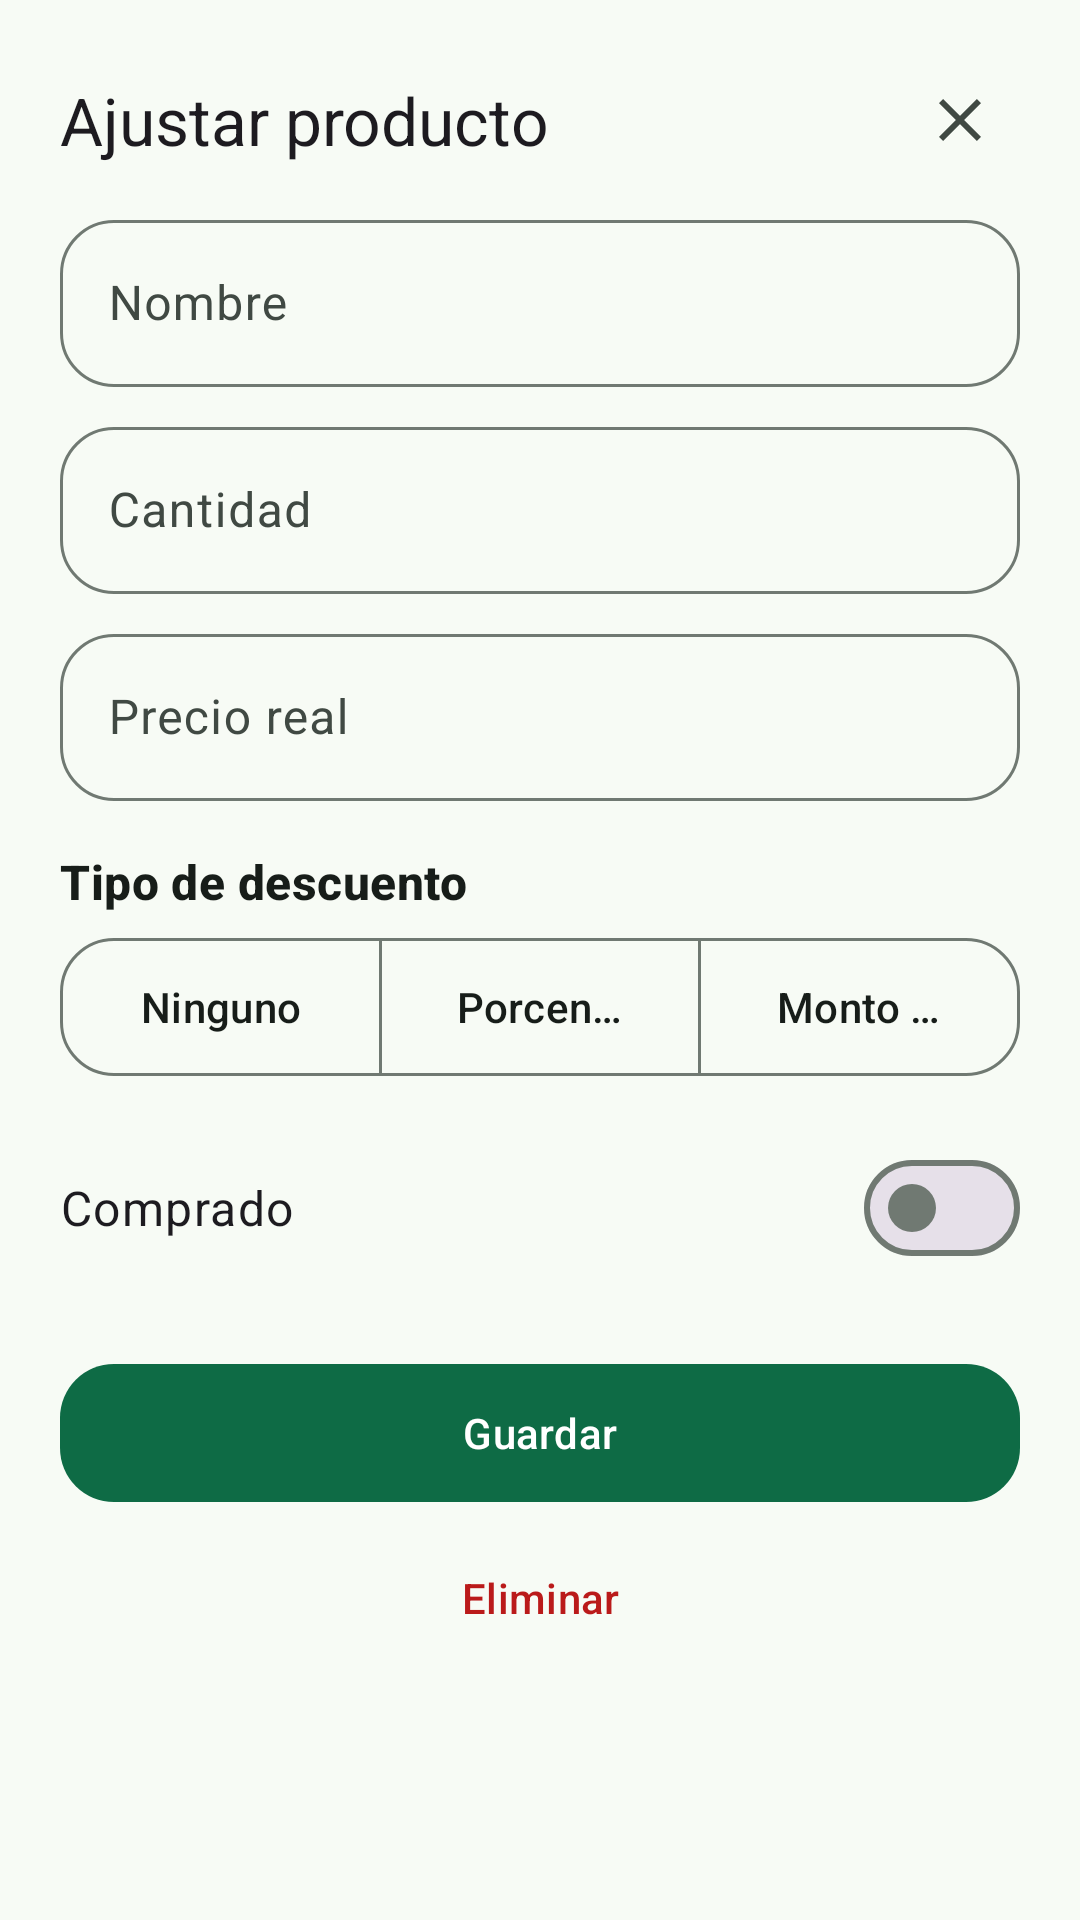

Screen size 1080px×1920px. Icon name, then its box in pixels as (x1, y1, x2, y2):
Cerrar: (939, 99, 981, 141)
